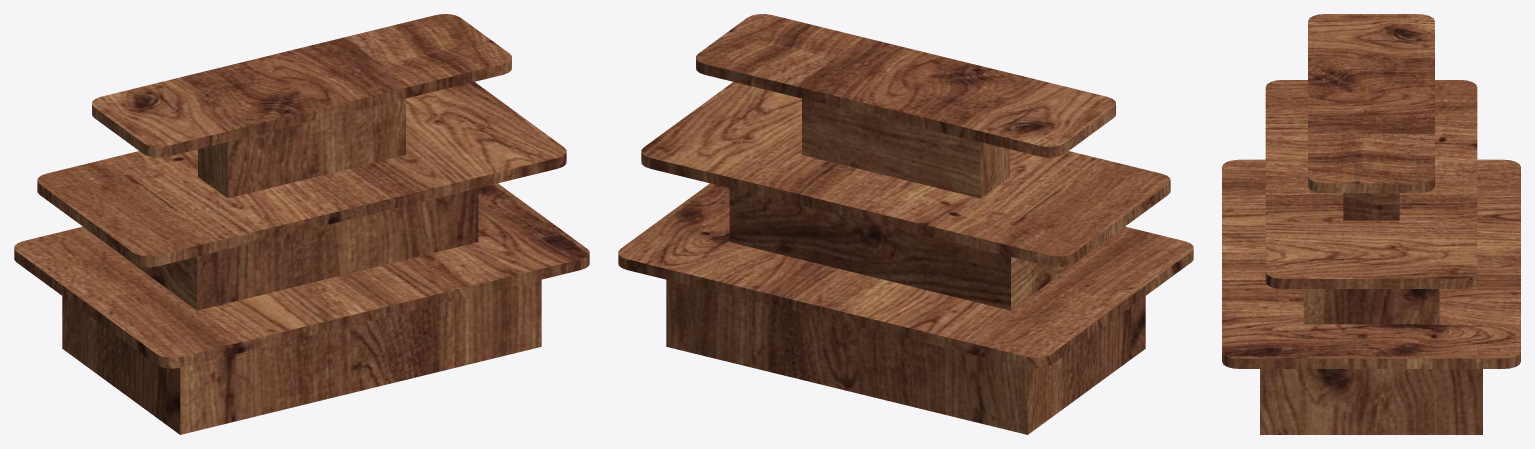
File: tier_table.glb
The picture shows the model from 3 angles, left to right: view 1: azimuth 30°, elevation 25°; view 2: azimuth 150°, elevation 25°; view 3: azimuth 270°, elevation 25°; orthographic projection. The views are drawn at different scales.
Parts seen in each view (by area): view 1: display_table_02; view 2: display_table_02; view 3: display_table_02.
Part boxes in pixels (<box>): display_table_02: <box>14,14,589,434</box>; display_table_02: <box>618,14,1193,434</box>; display_table_02: <box>1222,14,1520,434</box>.
Size of the model in its own units: 1.67 by 0.99 by 1.06.
1 material, 1 textured.
